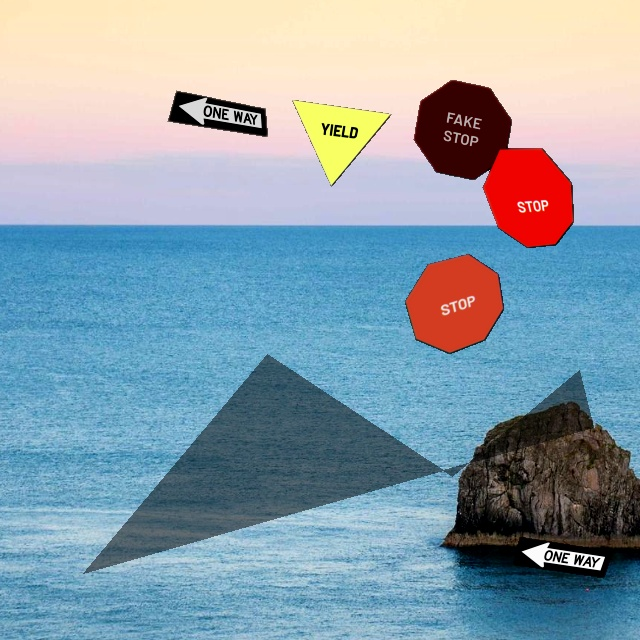FAKE_STOP: (413, 79, 512, 180)
ONE_WAY_ left: (167, 90, 268, 137), (512, 536, 613, 578)
STOP: (404, 253, 504, 354), (482, 147, 574, 248)
YIELD: (291, 99, 392, 187)
